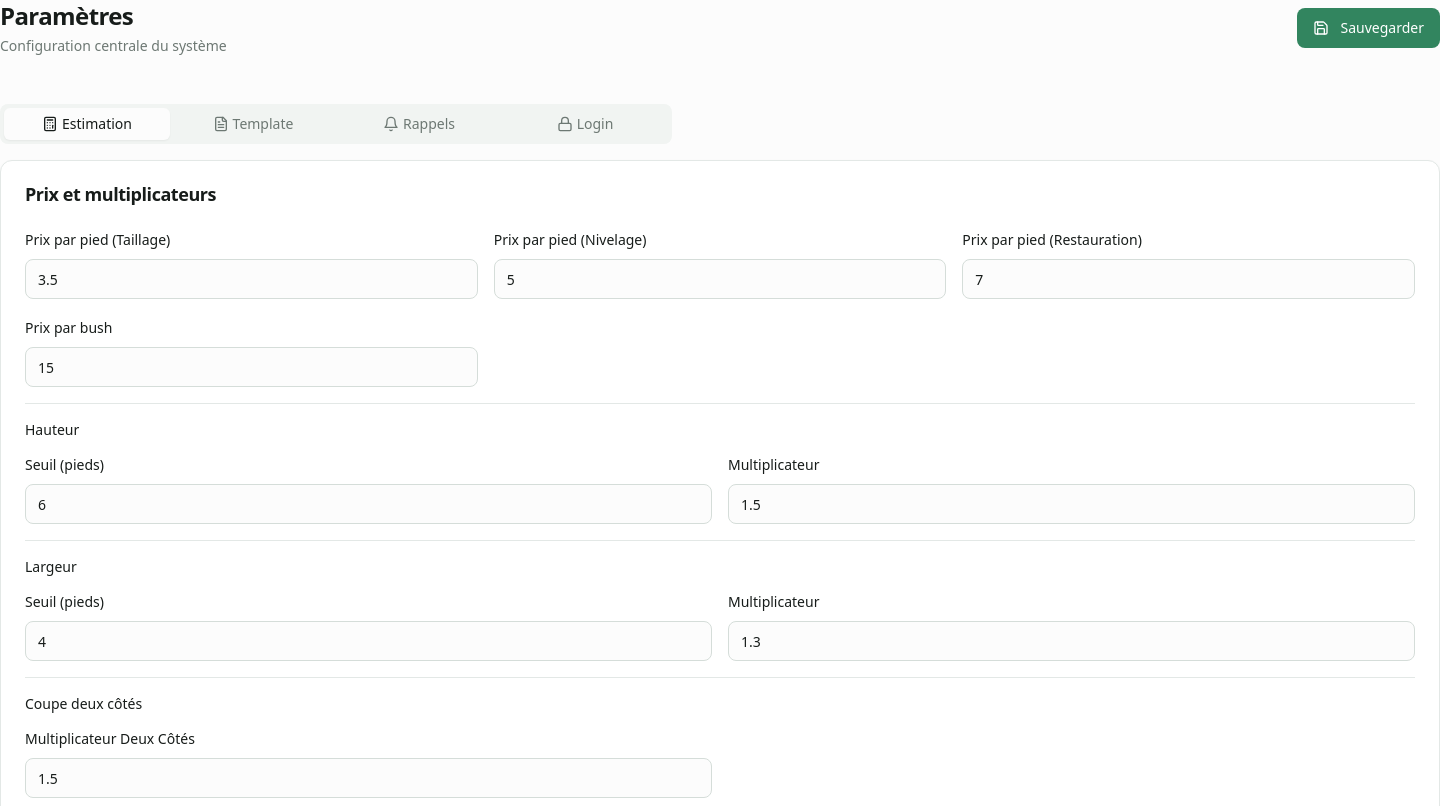
Scenario: Settings — show_taxes toggle › toggling the switch updates the form state
Click the tab "Template".
click(253, 124)  # box [170,108,336,140]
(page scrolled)
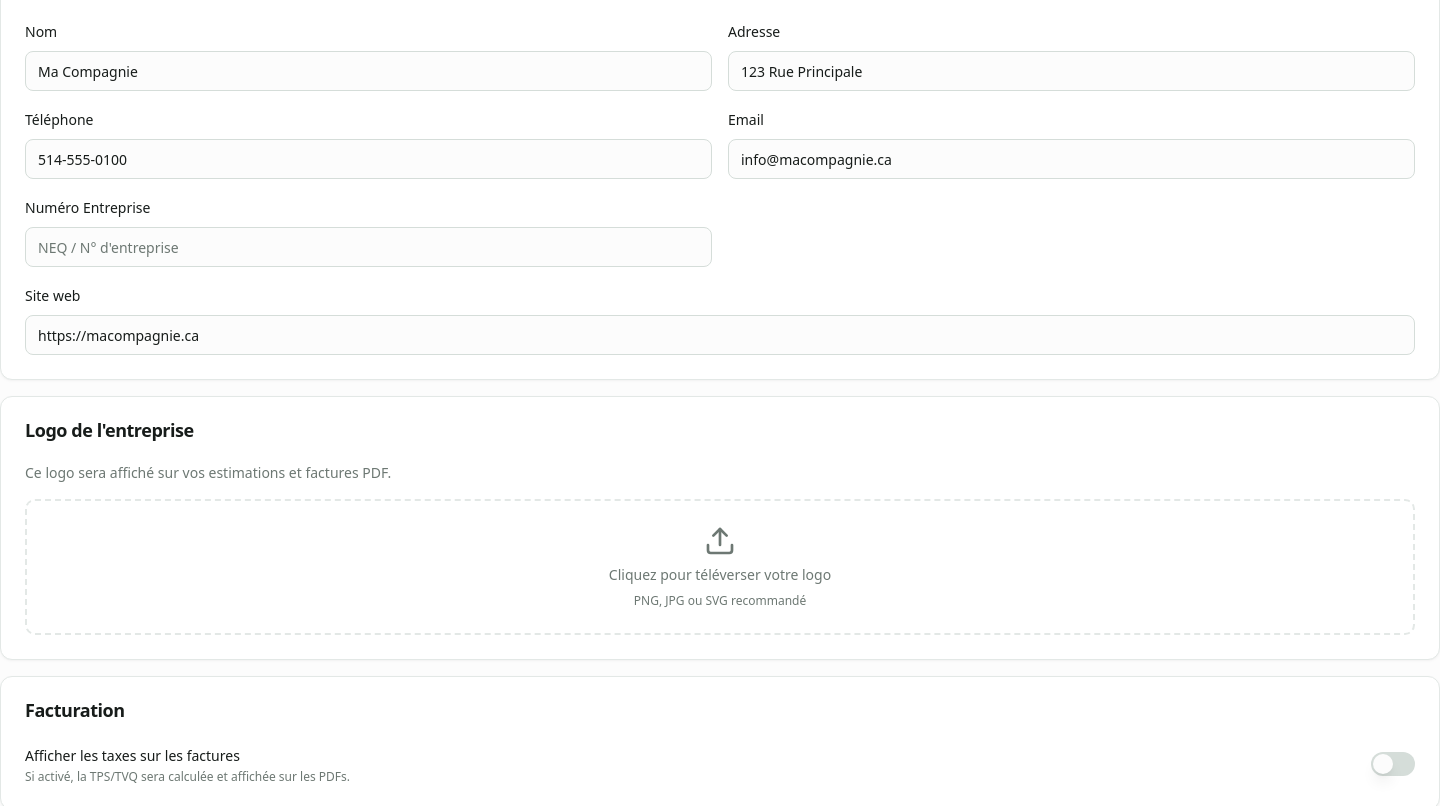
Expected: the switch is not checked
Click the switch.
click(1393, 764)  # box [1371,752,1415,776]
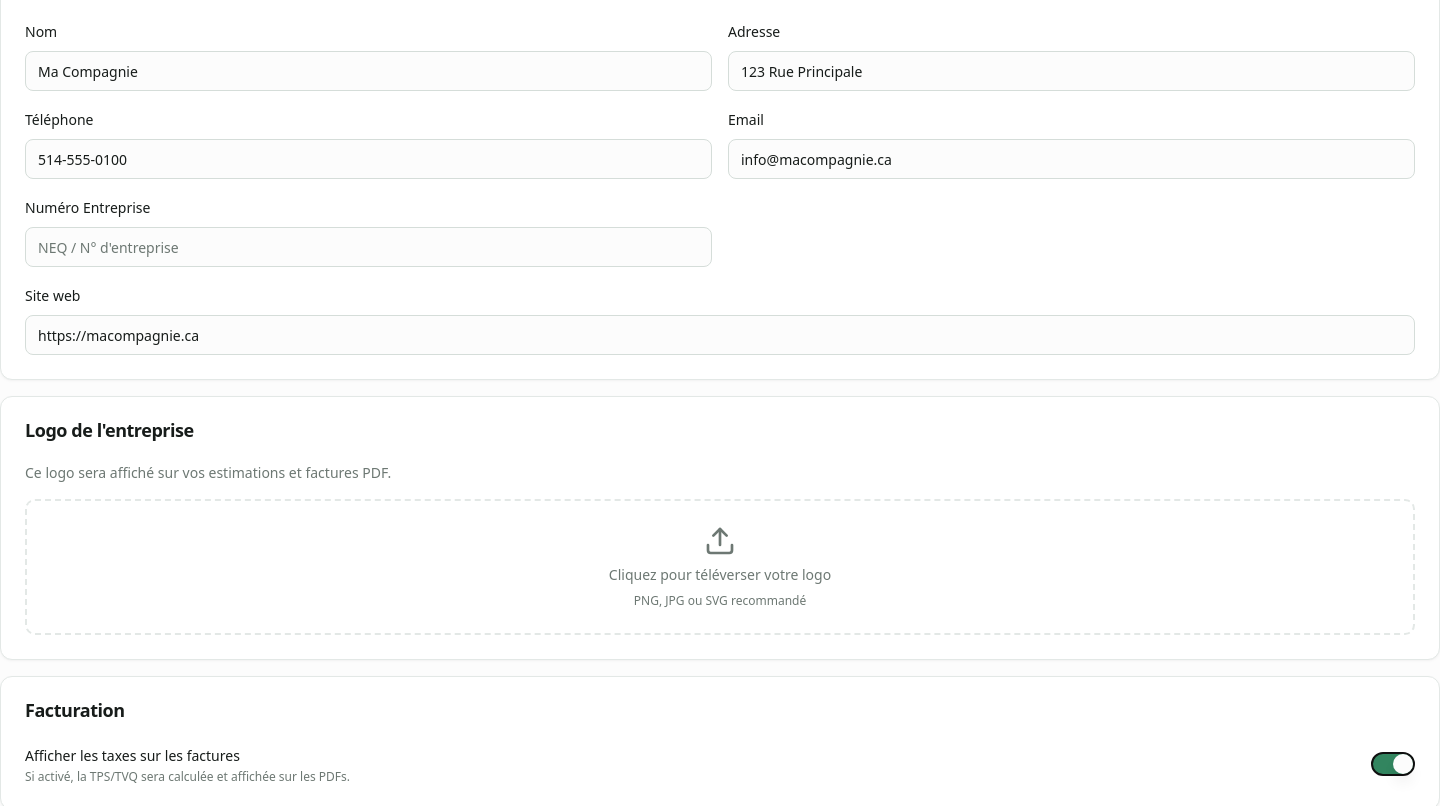
Expected: the switch is checked
Click the switch.
click(1393, 764)  # box [1371,752,1415,776]
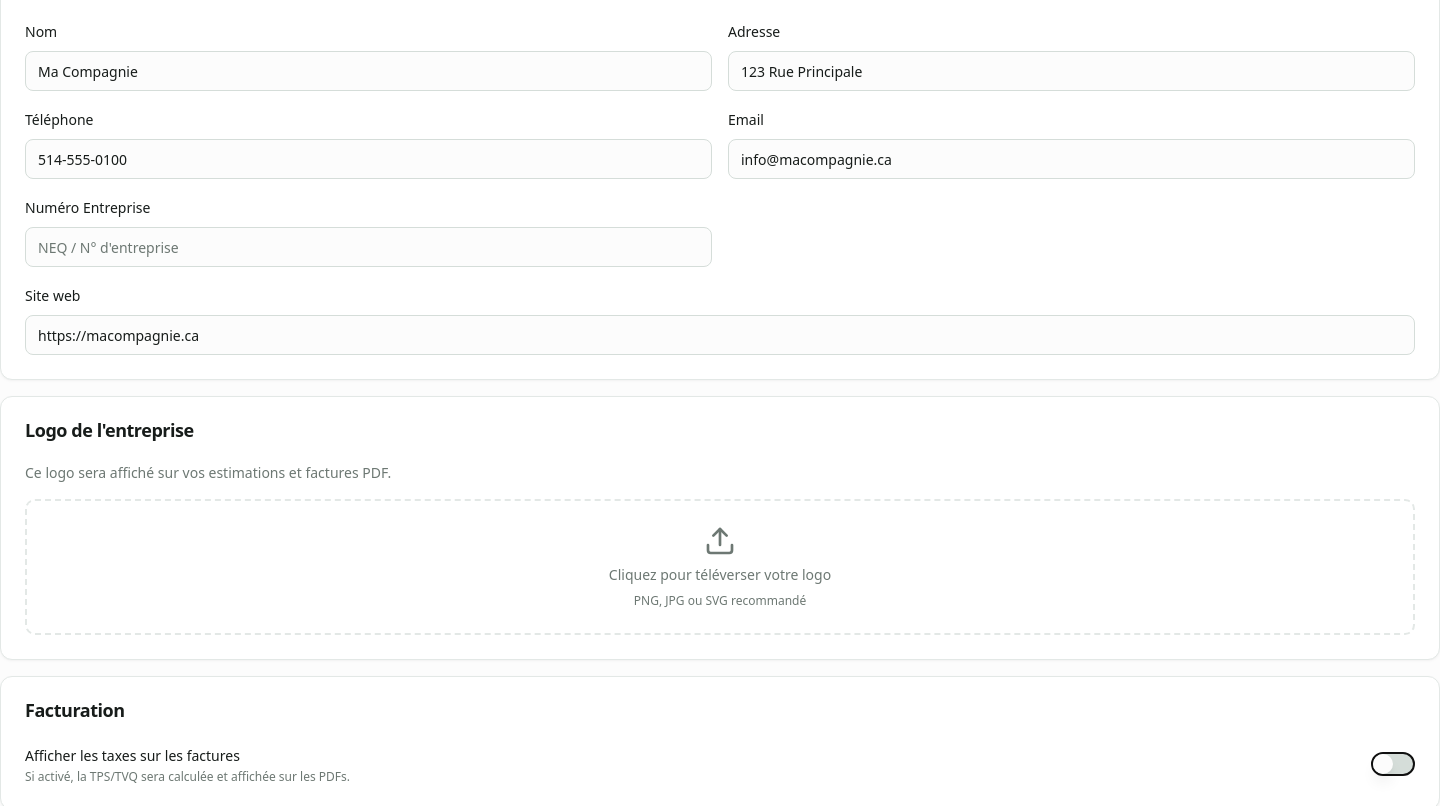
Expected: the switch is not checked, [1371,752,1415,776]
